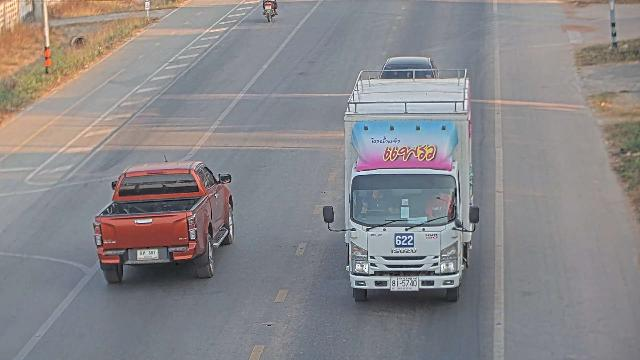pickup-truck: (92, 156, 234, 284)
truck: (336, 78, 479, 304)
